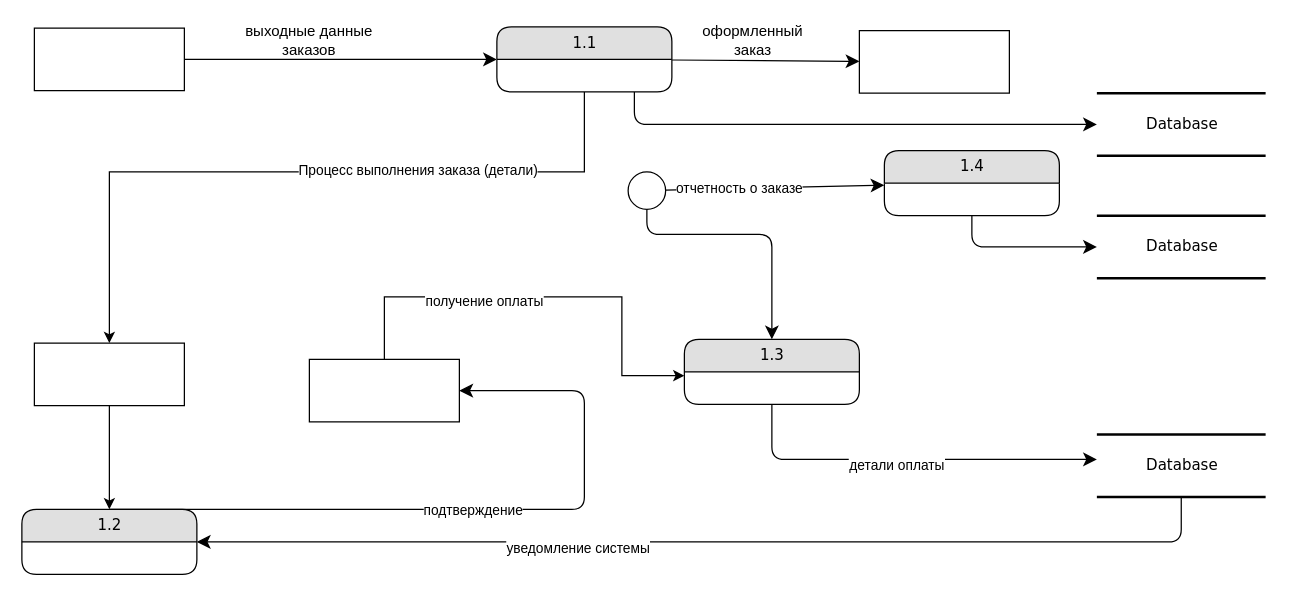
This 1289x596 diagram has some shape labels left out. The shapes that lost their labels are listed below. From the top down, each one's centre as x and y in pixels, then its label:
pixel 108 59: Input
pixel 933 61: Output
pixel 108 374: система обработки заказов
pixel 383 390: оплата
